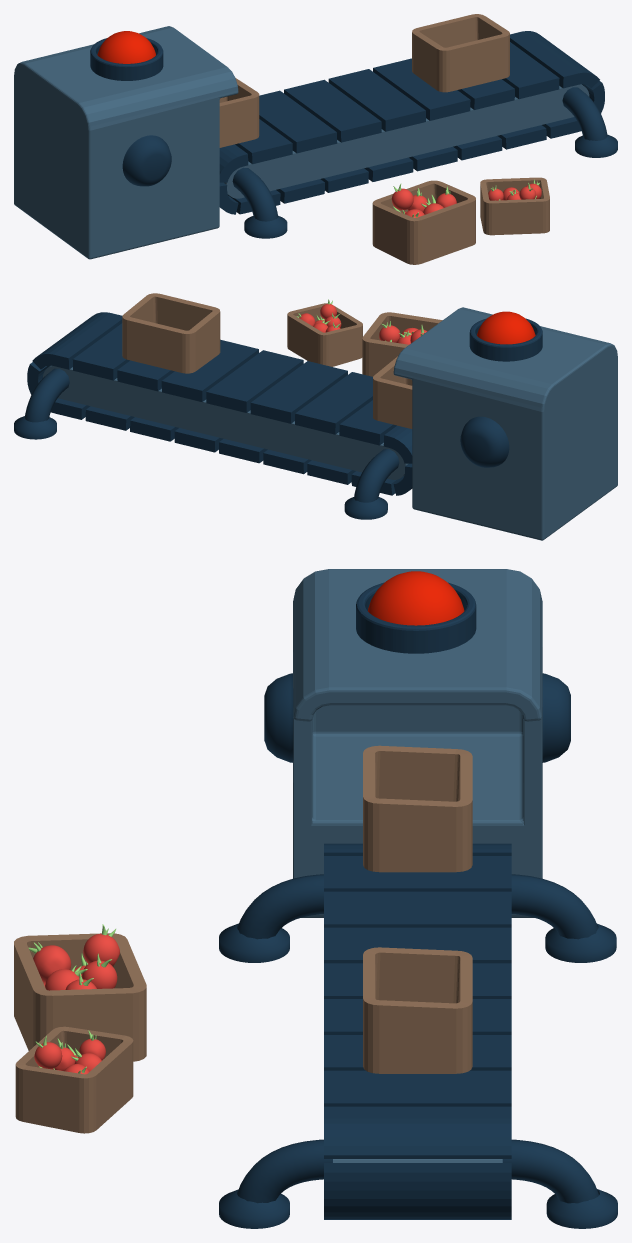
The model's file is FactoryBelt.fbx.
The picture shows the model from 3 angles, top to bottom: view 1: azimuth 30°, elevation 25°; view 2: azimuth 150°, elevation 25°; view 3: azimuth 270°, elevation 25°; orthographic projection. The views are drawn at different scales.
Visible parts, largest first — view 1: Box, Belt, BeltBlock, Cube01, Cube04, Cube04.001, Foot, Cube02, SideButtons, Button01, Button02, Stand04 (+2 smaller); view 2: Box, Belt, BeltBlock, Cube01, Cube04.001, Foot, Cube04, Cube02, SideButtons, Button01, Button02, Stand03 (+1 smaller); view 3: Belt, Box, Foot, Cube02, Cube01, Cube04, Cube04.001, SideButtons, Button01, Button02, Stand02, Stand01 (+4 smaller).
Part boxes in pixels (x1,y1,x2,y2): Box: [14, 26, 238, 259]; Belt: [219, 31, 604, 214]; BeltBlock: [224, 84, 589, 198]; Cube01: [412, 14, 509, 92]; Cube04: [372, 180, 475, 264]; Cube04.001: [480, 177, 549, 235]; Foot: [232, 87, 607, 221]; Cube02: [219, 78, 259, 147]; SideButtons: [122, 135, 171, 186]; Button01: [90, 38, 163, 80]; Button02: [97, 31, 155, 63]; Stand04: [244, 215, 287, 238]; Box: [393, 307, 617, 540]; Belt: [27, 312, 412, 495]; BeltBlock: [43, 365, 408, 479]; Cube01: [122, 293, 220, 373]; Cube04.001: [287, 303, 362, 366]; Foot: [25, 368, 399, 502]; Cube04: [362, 312, 442, 376]; Cube02: [373, 356, 412, 428]; SideButtons: [460, 416, 509, 467]; Button01: [469, 318, 542, 361]; Button02: [477, 311, 535, 344]; Stand03: [344, 497, 387, 519]; Belt: [324, 843, 511, 1219]; Box: [293, 569, 542, 917]; Foot: [237, 874, 598, 1203]; Cube02: [363, 745, 472, 872]; Cube01: [363, 947, 472, 1073]; Cube04: [14, 933, 146, 1061]; Cube04.001: [15, 1026, 133, 1133]; SideButtons: [264, 673, 570, 762]; Button01: [356, 582, 476, 653]; Button02: [368, 571, 464, 625]; Stand02: [546, 1189, 617, 1228]; Stand01: [219, 1189, 289, 1228].
Size of the model in its own units: 651 by 217 by 393.
